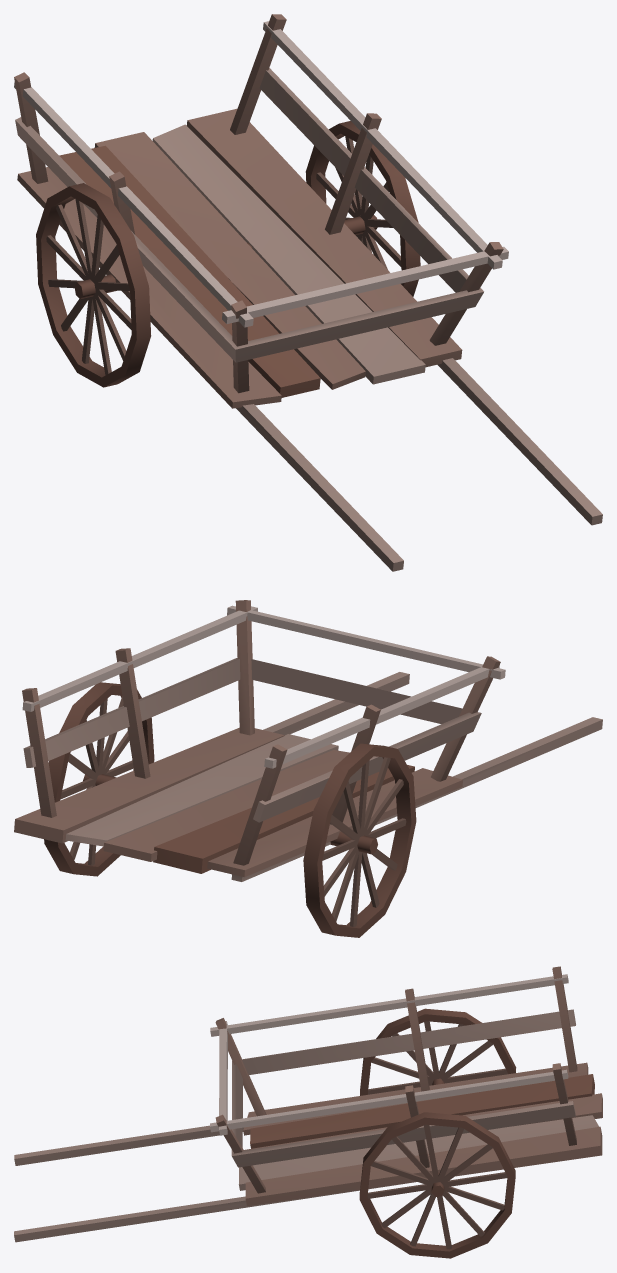
Rendered from dray_001.glb.
The picture shows the model from 3 angles, top to bottom: view 1: azimuth 30°, elevation 25°; view 2: azimuth 150°, elevation 25°; view 3: azimuth 270°, elevation 25°; orthographic projection. The views are drawn at different scales.
Parts seen in each view (by area): view 1: dray_001; view 2: dray_001; view 3: dray_001.
Part boxes in pixels (x1,y1,x2,y2): dray_001: (14,14,602,571); dray_001: (14,600,602,937); dray_001: (14,966,602,1258).
Bounding box in the file's own units: 1.84 × 1.47 × 4.11.
1 material, 1 textured.
